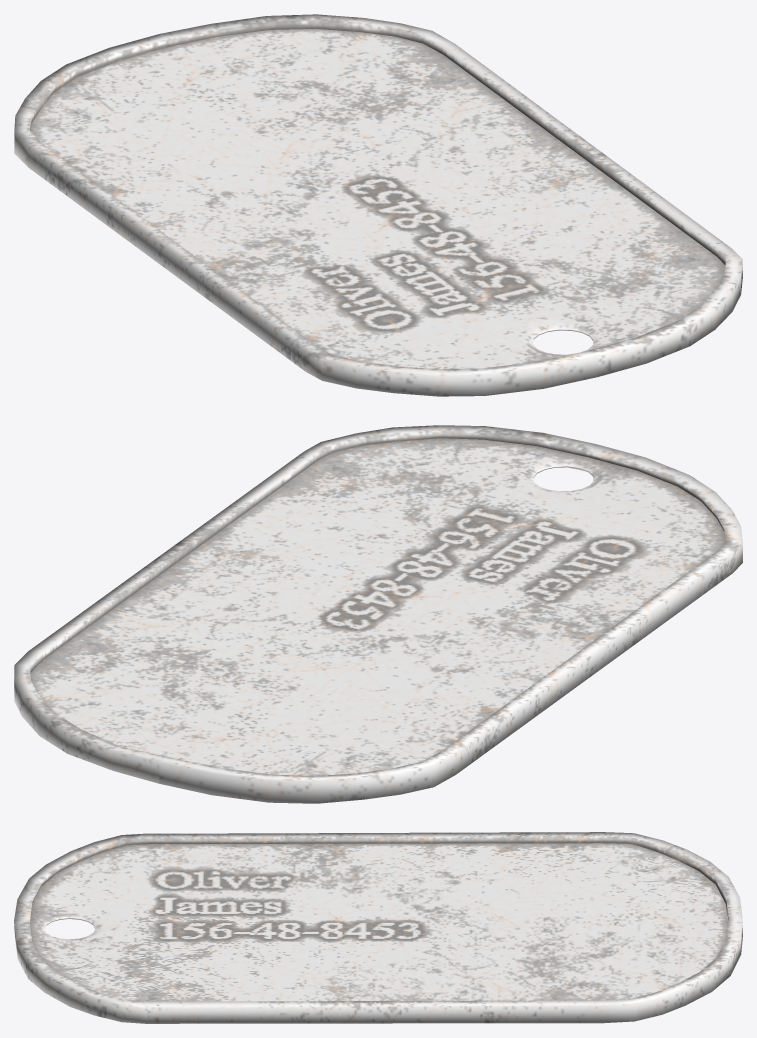
The model's file is DogTag_single_Item.fbx.
The picture shows the model from 3 angles, top to bottom: view 1: azimuth 30°, elevation 25°; view 2: azimuth 150°, elevation 25°; view 3: azimuth 270°, elevation 25°; orthographic projection. The views are drawn at different scales.
Parts seen in each view (by area): view 1: Dog_Tag_singleitem_LOD0; view 2: Dog_Tag_singleitem_LOD0; view 3: Dog_Tag_singleitem_LOD0.
Boxes of the visible parts, x1,y1,x2,y2 form: Dog_Tag_singleitem_LOD0: (14,14,742,396); Dog_Tag_singleitem_LOD0: (14,425,742,803); Dog_Tag_singleitem_LOD0: (14,832,742,1023).
Size of what is drawn, in the model's own units: 2.53 by 0.1419 by 4.49.
Materials: 1 (1 with a texture image).
